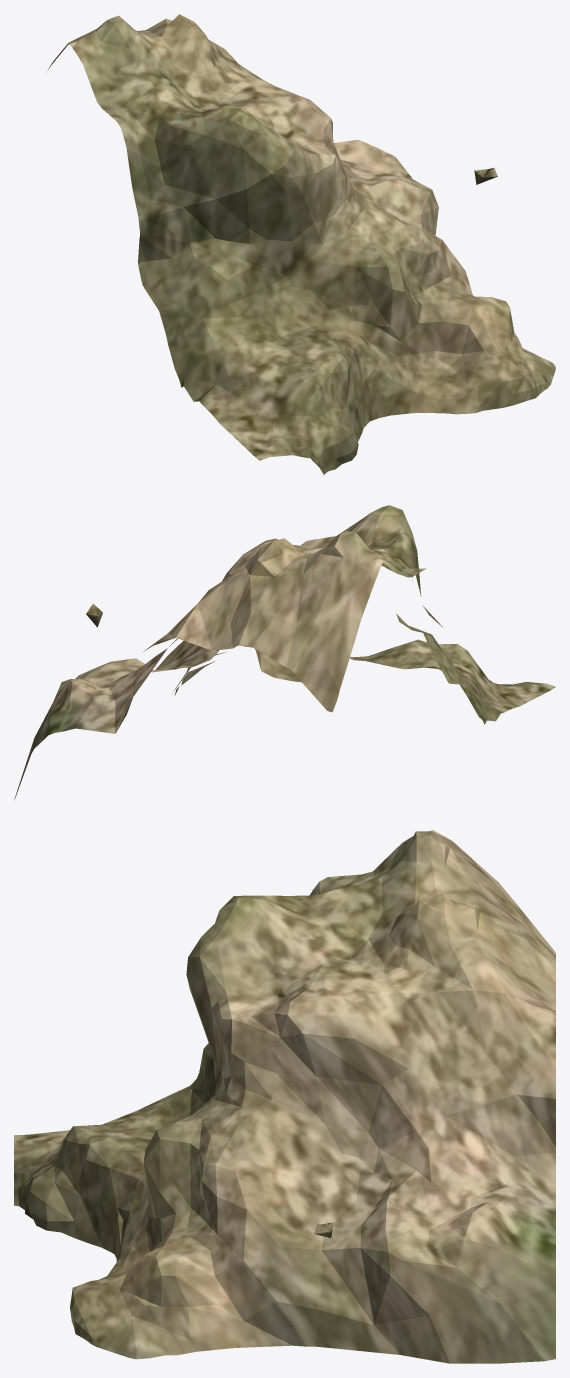
The picture shows the model from 3 angles, top to bottom: view 1: azimuth 30°, elevation 25°; view 2: azimuth 150°, elevation 25°; view 3: azimuth 270°, elevation 25°; orthographic projection. The views are drawn at different scales.
Size of the model in its own units: 2.59 by 2.17 by 2.95.
Materials: 3 (3 with a texture image).
